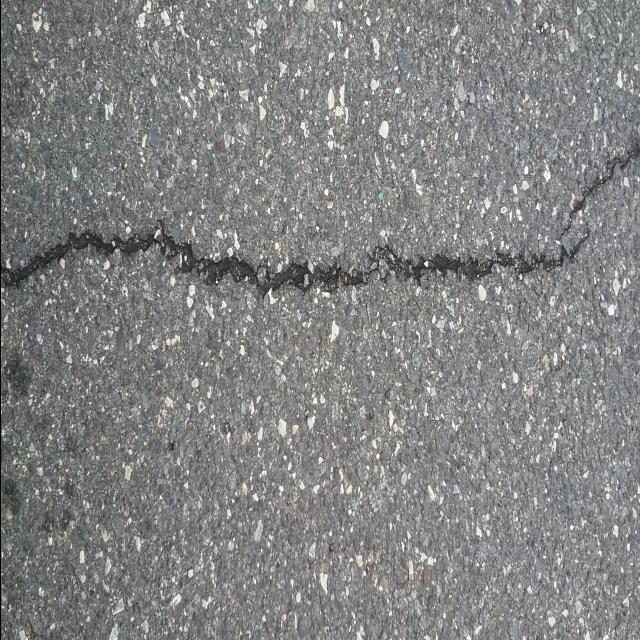Crack: (0, 143, 640, 302)
